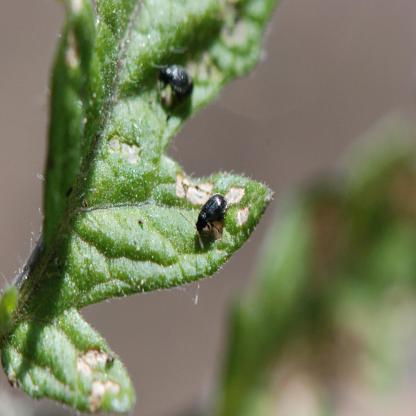beetle: (184, 188, 234, 257), (159, 51, 196, 120)
